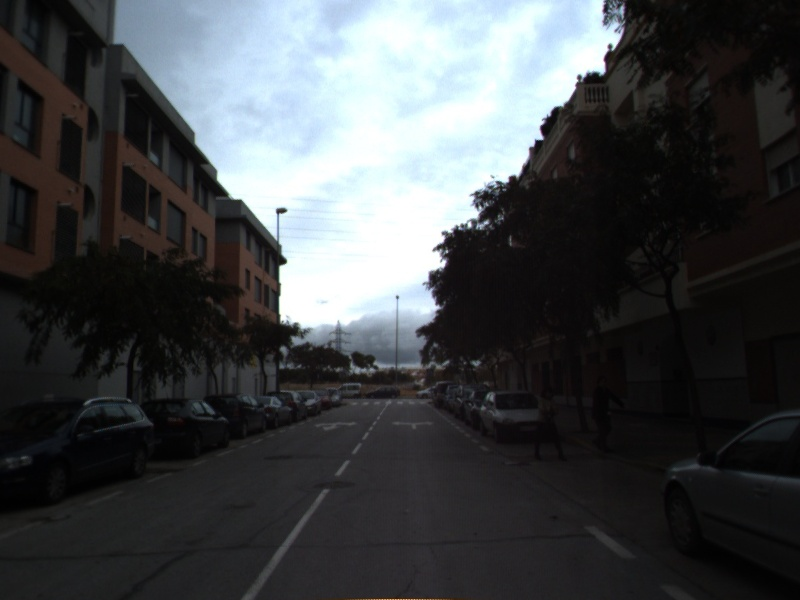LEFT_RIGHT: (390, 419, 436, 431)
